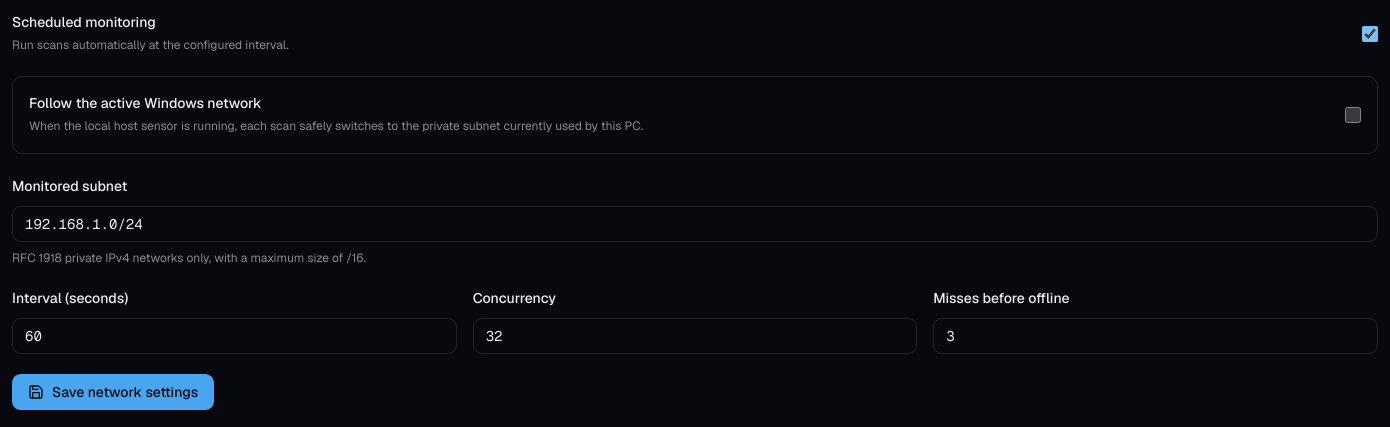
Test: ScannerSettingsForm › saves an authorized subnet and scanner controls
The width and height of the screenshot is (1390, 427).
In the field labelled "Monitored subnet": (695, 224) [12,206,1378,242], type "10.42.0.0/24"
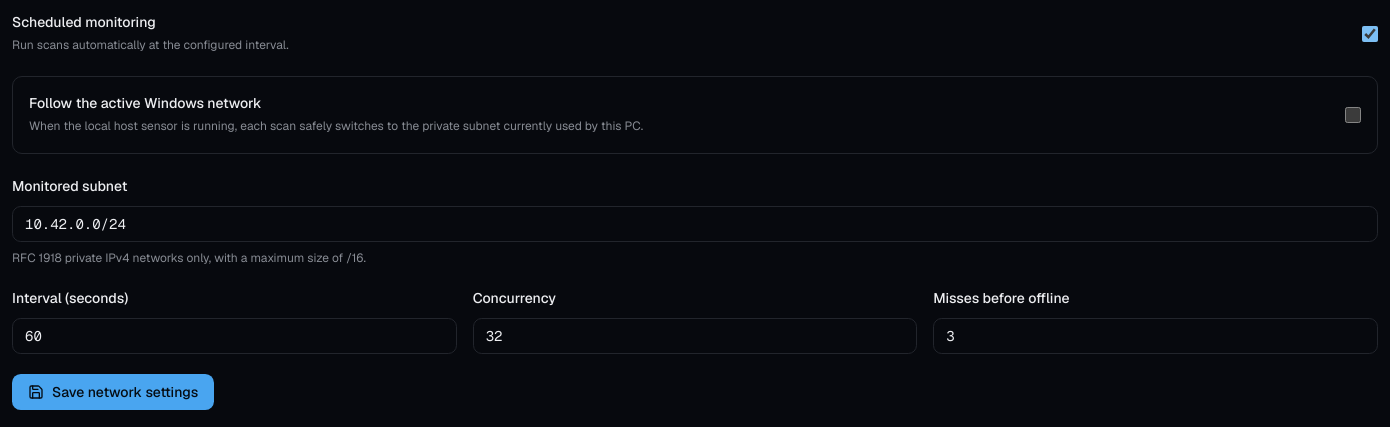
Click the button "Save network settings": (113, 392) [12,374,214,410]
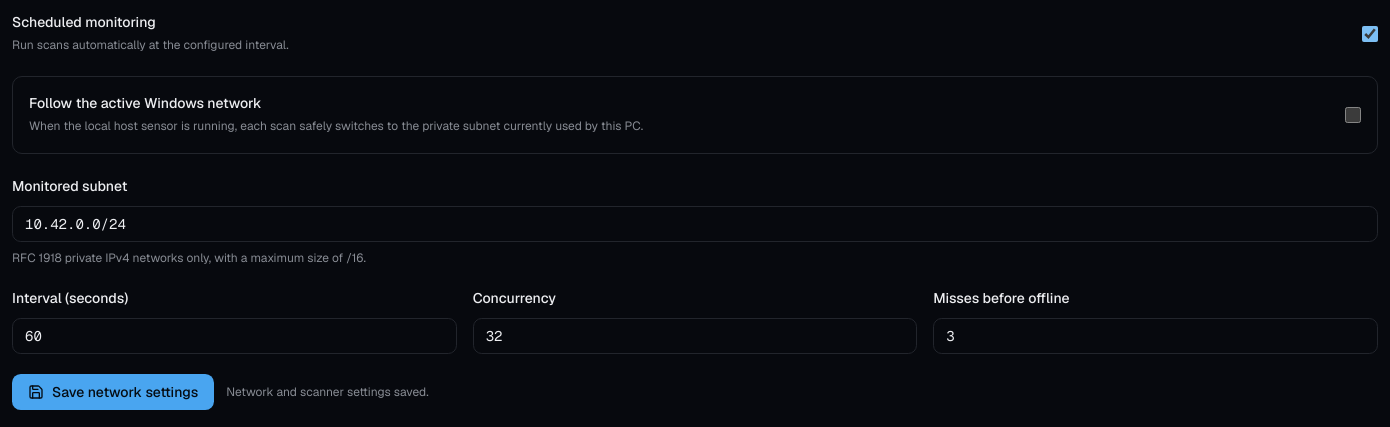
Check: the text "Network and scanner settings saved." is shown, box [226,384,429,400]
